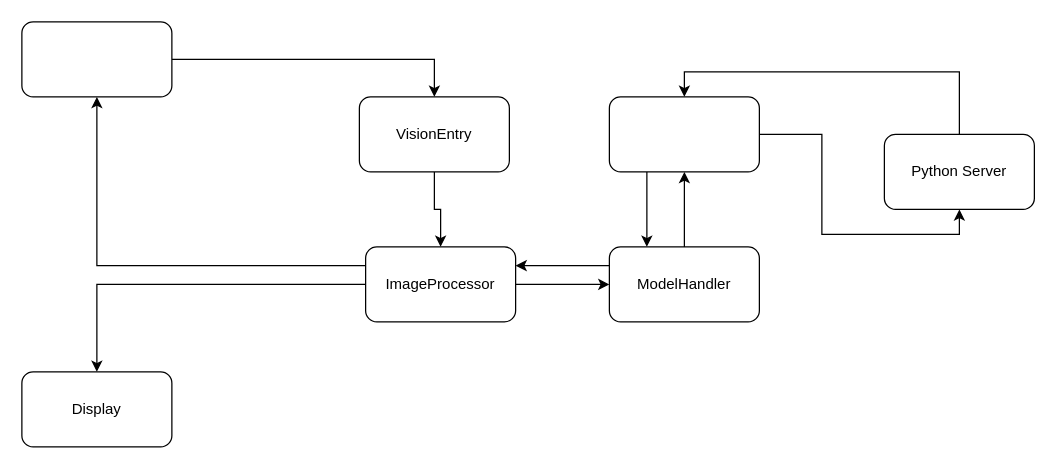
The diagram is 1056 pixels wide and 469 high, and some of its shapes have lost their labels. The centre of each missing label's shape, as x and y in pixels:
"Hardware" goes at pixel 96 59.
"TextClassifier" goes at pixel 683 134.
